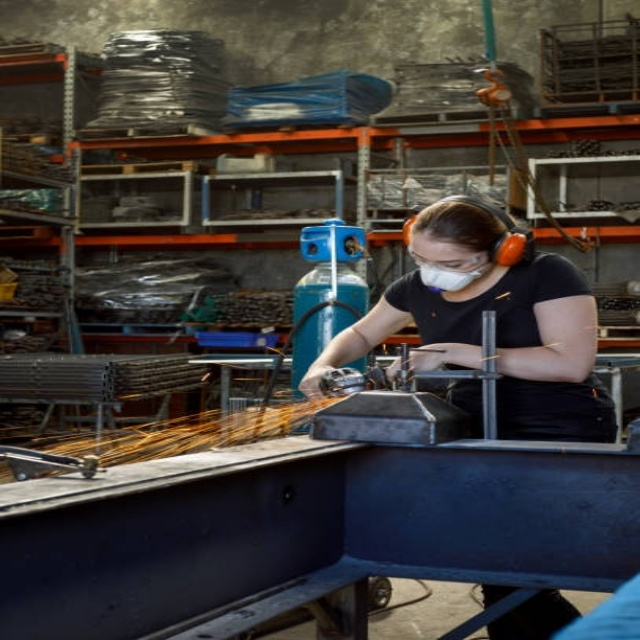Gafas: (408, 246, 489, 270)
Mascara: (417, 257, 491, 292)
Sin_guantes: (384, 346, 456, 380), (298, 363, 358, 400)
